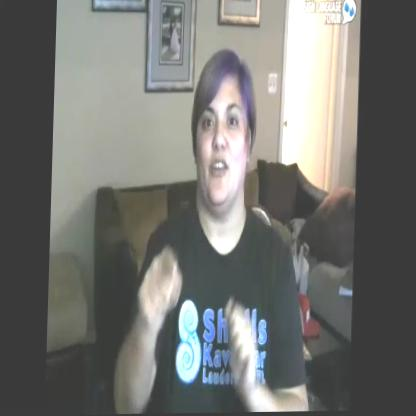NiceToMeetYou: (130, 230, 183, 350)
